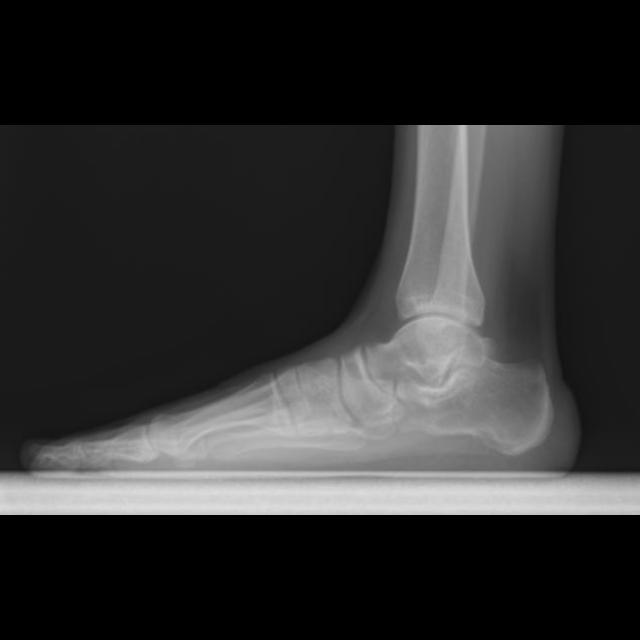a: (395, 356, 553, 455)
b: (340, 346, 399, 426)
c: (147, 373, 291, 468)
